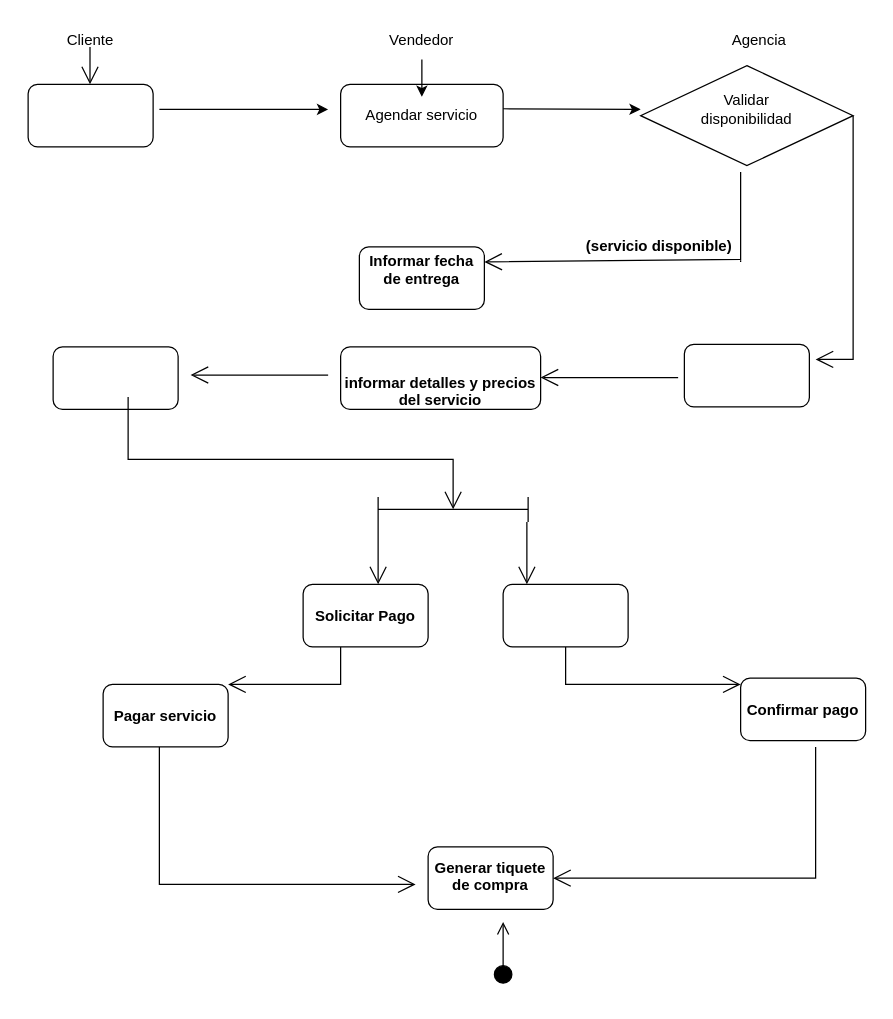
This 893x1019 diagram has some shape labels left out. The box of each missing label's shape, as (x1, y1, x2, y2) in pixels:
Confirmar servicio: (502, 583, 628, 647)
Mostrar detalles de servicio: (683, 343, 809, 407)
Seleccionar cantidad de revelados: (52, 346, 178, 409)
Solicitar Revelado de fotografias: (27, 83, 153, 147)
